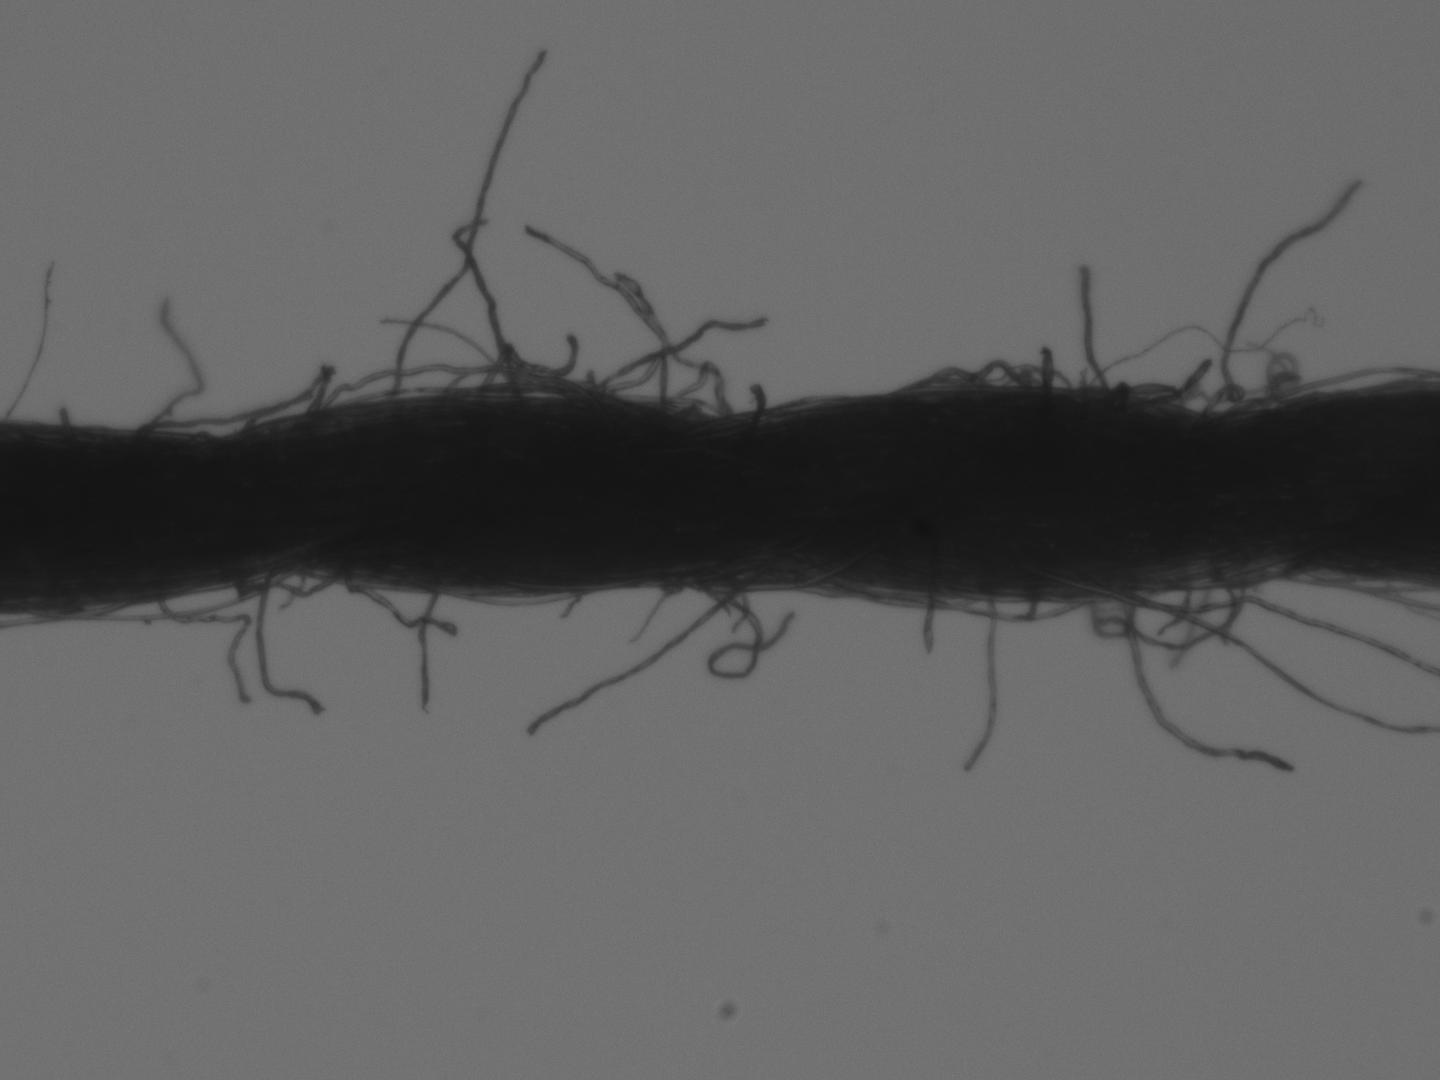loop_fiber: (1219, 343, 1430, 424), (316, 358, 612, 413), (138, 361, 332, 440), (1123, 579, 1242, 652), (154, 564, 291, 621), (883, 353, 1032, 403), (219, 559, 351, 607), (655, 355, 734, 416), (1089, 378, 1185, 405)
protruding_fiber: (524, 573, 755, 734), (3, 260, 57, 419), (916, 559, 949, 661)
